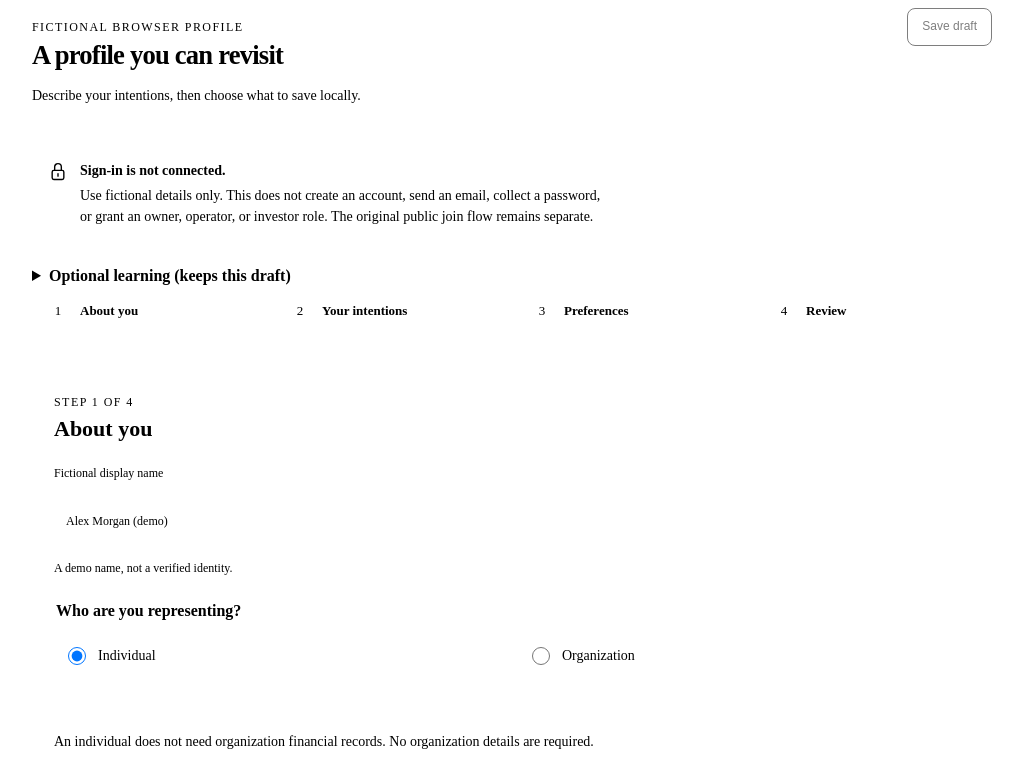
Scenario: fictional profile persistence and corrections › reports memory-only saving if browser storage fails rather than claiming a durable save
Step 1. Replace the text in the field labelled "Fictional display name A demo name, not a verified identity." with "Memory-only Fictional Profile" → (524, 521), box [54,488,994,554]
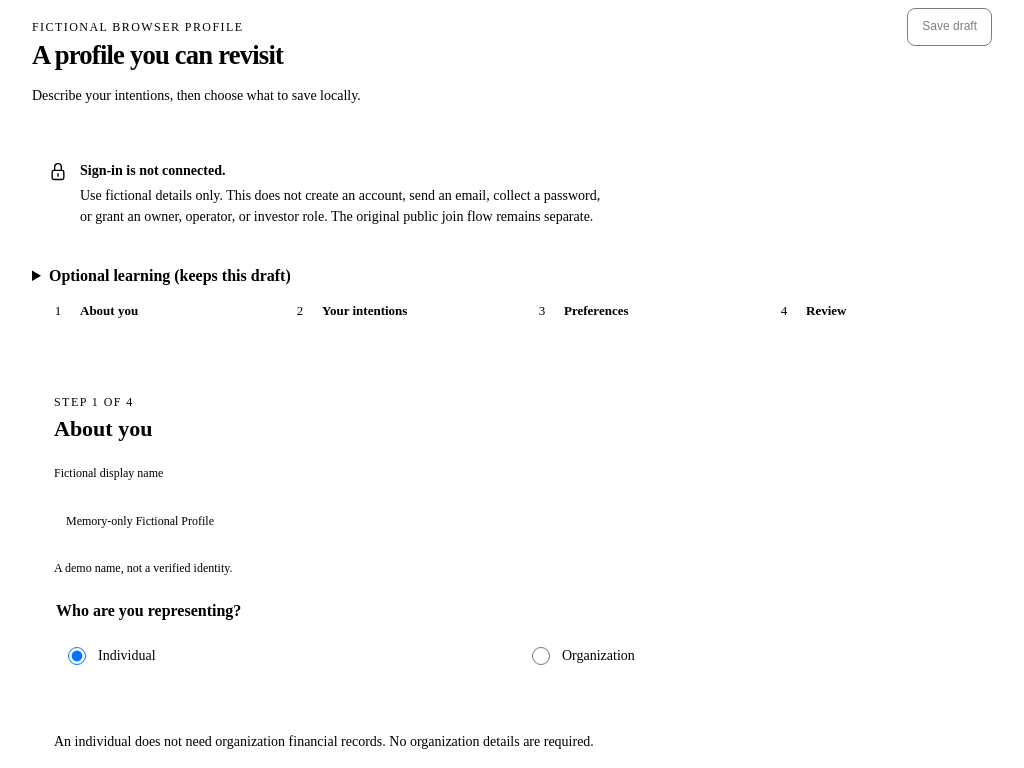
Step 2. Click the button "4 Review" → (875, 311), box [758,285,992,337]
(page scrolled)
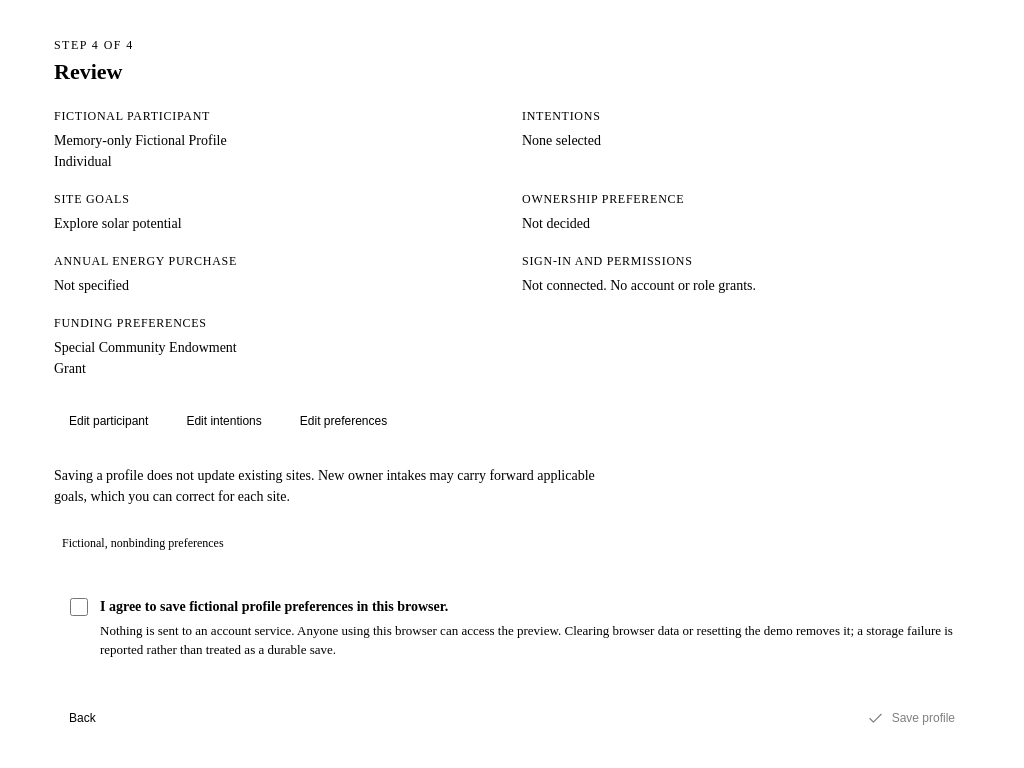
Step 3. Click the checkbox labelled "I agree to save fictional profile preferences in this browser" → (79, 607), box [70,598,88,616]
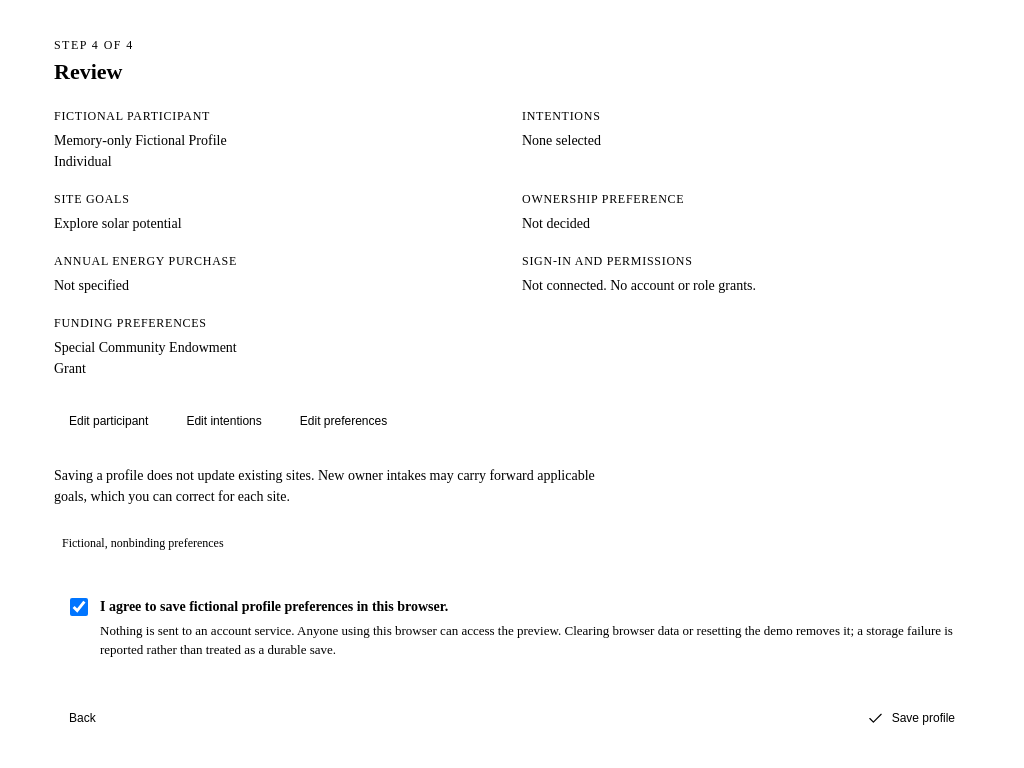
Step 4. Click the button "Save profile" → (911, 719), box [852,700,970,738]
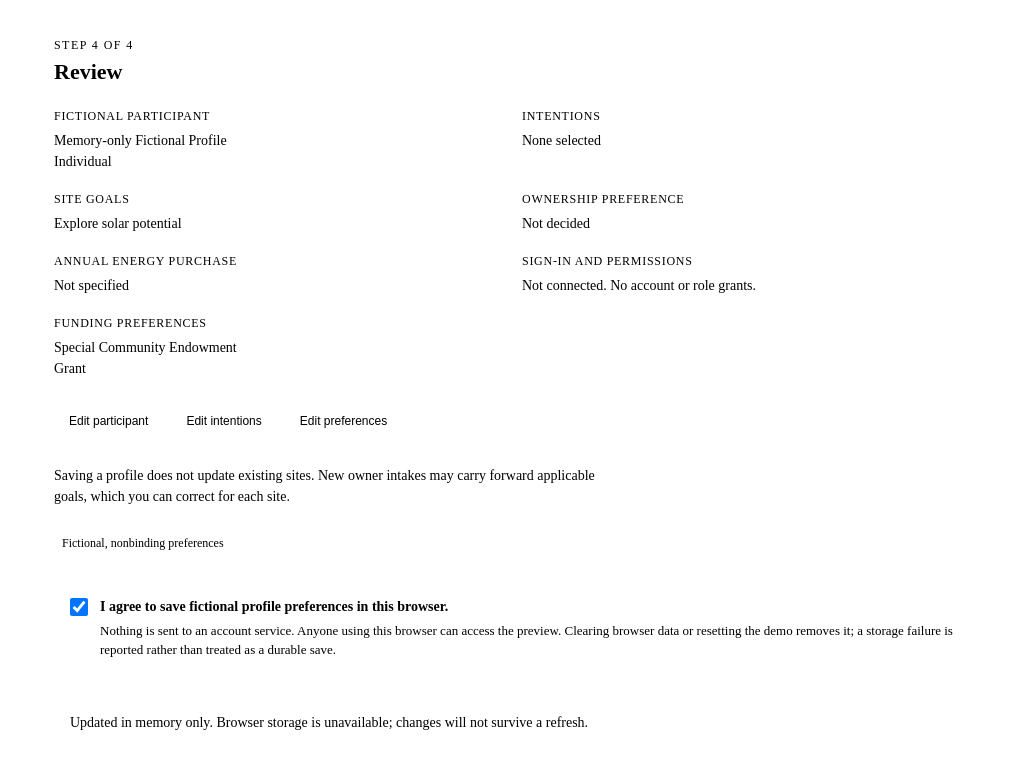
Expected: the message shows "Updated in memory only", [70,715,588,730]
